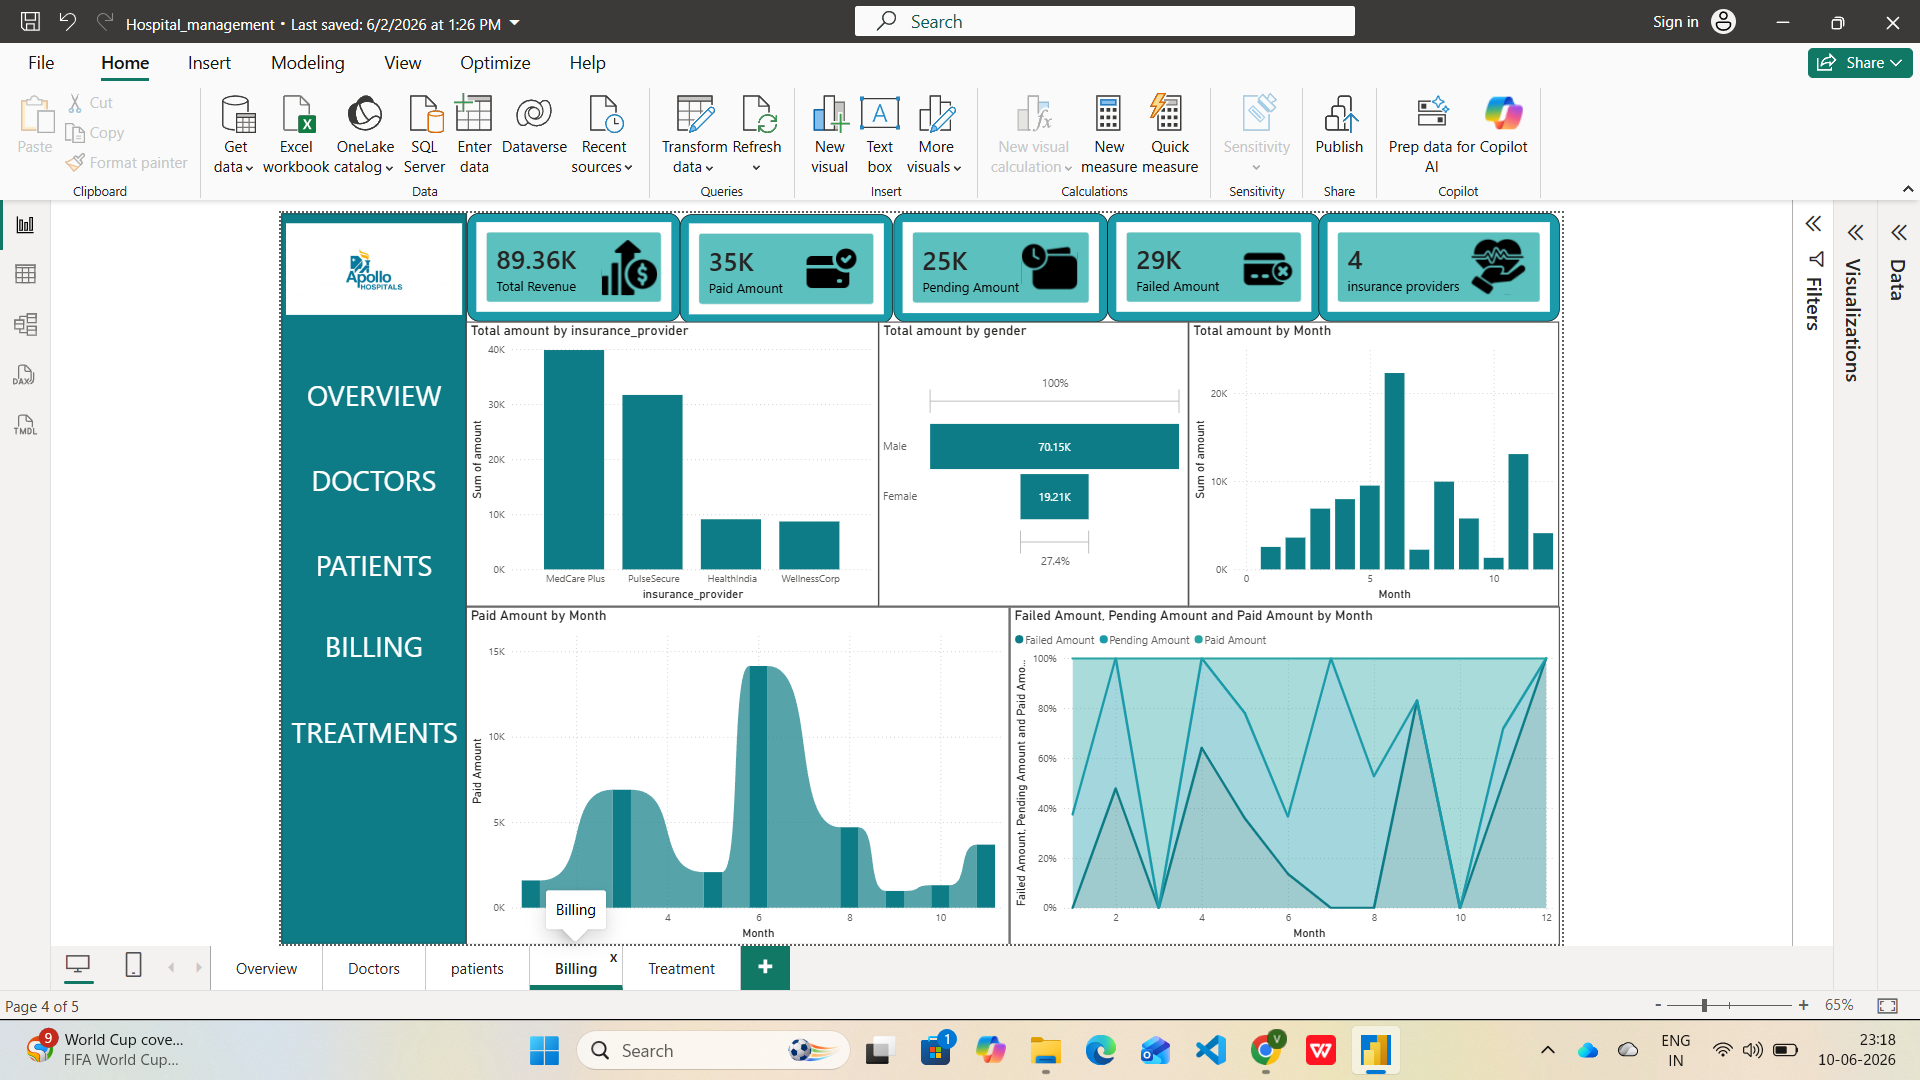

The page's visual inventory and layout, read from the dashboard file:
{"tool":"powerbi","page":{"name":"Billing","canvas":[1577,900],"ordinal":3},"visuals":[{"type":"shape","box":[0,0,229,900.3],"z":0},{"type":"image","box":[6.8,5.1,216.9,128.8],"z":1000},{"type":"actionButton","box":[0,195.3,229.7,51.6],"z":2000},{"type":"actionButton","box":[0,300,229,51],"z":3000},{"type":"actionButton","box":[0,405.1,229,51],"z":4000},{"type":"actionButton","box":[0,505.1,229,51],"z":5000},{"type":"actionButton","box":[0,610.2,230.5,52.5],"z":6000},{"type":"cardVisual","fields":{"Data":["Sum(hosp billing.amount)"]},"box":[228.8,0,262.7,133.9],"z":7000},{"type":"actionButton","box":[391.5,28.8,100,76.3],"z":8000},{"type":"cardVisual","fields":{"Data":["hosp billing.Paid Amount"]},"box":[490.6,1.6,262.5,134.4],"z":9000},{"type":"cardVisual","fields":{"Data":["hosp billing.Pending Amount"]},"box":[753.1,0,264.1,134.4],"z":10000},{"type":"cardVisual","fields":{"Data":["hosp billing.Failed Amount"]},"box":[1016.9,0,262.7,133.9],"z":11000},{"type":"cardVisual","fields":{"Data":["Count(hosp patients.insurance_provider)"]},"box":[1276.3,0,296.6,133.9],"z":12000},{"type":"columnChart","title":"Total amount by insurance_provider","fields":{"Y":["Sum(hosp billing.amount)"],"Category":["hosp patients.insurance_provider"]},"box":[228.1,134.4,507.8,350],"z":13000},{"type":"funnel","title":"Total amount by gender","fields":{"Category":["hosp patients.gender"],"Y":["Sum(hosp billing.amount)"]},"box":[735.9,134.4,381.2,350],"z":14000},{"type":"columnChart","title":"Total amount by Month","fields":{"Category":["hosp billing.Month"],"Y":["Sum(hosp billing.amount)"]},"box":[1117.2,134.4,456.2,350],"z":15000},{"type":"ribbonChart","fields":{"Y":["hosp billing.Paid Amount"],"Category":["hosp billing.Month"]},"box":[228.1,484.4,668.8,415.6],"z":16000},{"type":"hundredPercentStackedAreaChart","fields":{"Category":["hosp billing.Month"],"Y":["hosp billing.Failed Amount","hosp billing.Pending Amount","hosp billing.Paid Amount"]},"box":[896.9,484.4,676.6,415.6],"z":17000},{"type":"actionButton","box":[639.1,29.7,114.1,78.1],"z":18000},{"type":"actionButton","box":[907.8,28.1,109.4,76.6],"z":19000},{"type":"actionButton","box":[1176.6,31.2,100,76.6],"z":20000},{"type":"actionButton","box":[1459.4,28.1,117.2,76.6],"z":21000}]}

Visuals, with their boxes on the page's 1577x900 design canvas (x1, y1, x2, y2). These are canvas units, not pixel positions in the 1920x1080 screenshot, which may show the page scaled, cropped or inside an application window:
shape: bbox=(0, 0, 229, 900)
image: bbox=(7, 5, 224, 134)
actionButton: bbox=(0, 195, 230, 247)
actionButton: bbox=(0, 300, 229, 351)
actionButton: bbox=(0, 405, 229, 456)
actionButton: bbox=(0, 505, 229, 556)
actionButton: bbox=(0, 610, 230, 663)
cardVisual - Sum(hosp billing.amount): bbox=(229, 0, 492, 134)
actionButton: bbox=(392, 29, 492, 105)
cardVisual - hosp billing.Paid Amount: bbox=(491, 2, 753, 136)
cardVisual - hosp billing.Pending Amount: bbox=(753, 0, 1017, 134)
cardVisual - hosp billing.Failed Amount: bbox=(1017, 0, 1280, 134)
cardVisual - Count(hosp patients.insurance_provider): bbox=(1276, 0, 1573, 134)
"Total amount by insurance_provider" columnChart: bbox=(228, 134, 736, 484)
"Total amount by gender" funnel: bbox=(736, 134, 1117, 484)
"Total amount by Month" columnChart: bbox=(1117, 134, 1573, 484)
ribbonChart - hosp billing.Paid Amount x hosp billing.Month: bbox=(228, 484, 897, 900)
hundredPercentStackedAreaChart - hosp billing.Month x hosp billing.Failed Amount: bbox=(897, 484, 1574, 900)
actionButton: bbox=(639, 30, 753, 108)
actionButton: bbox=(908, 28, 1017, 105)
actionButton: bbox=(1177, 31, 1277, 108)
actionButton: bbox=(1459, 28, 1577, 105)
